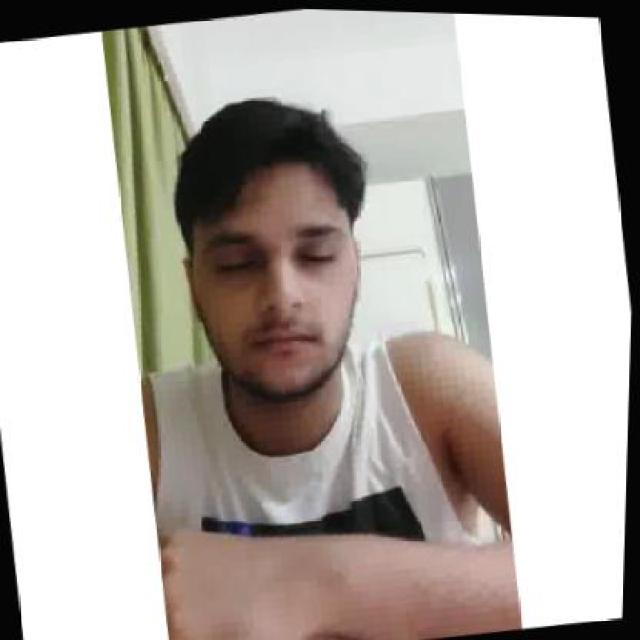inattentif: (151, 77, 387, 417)
